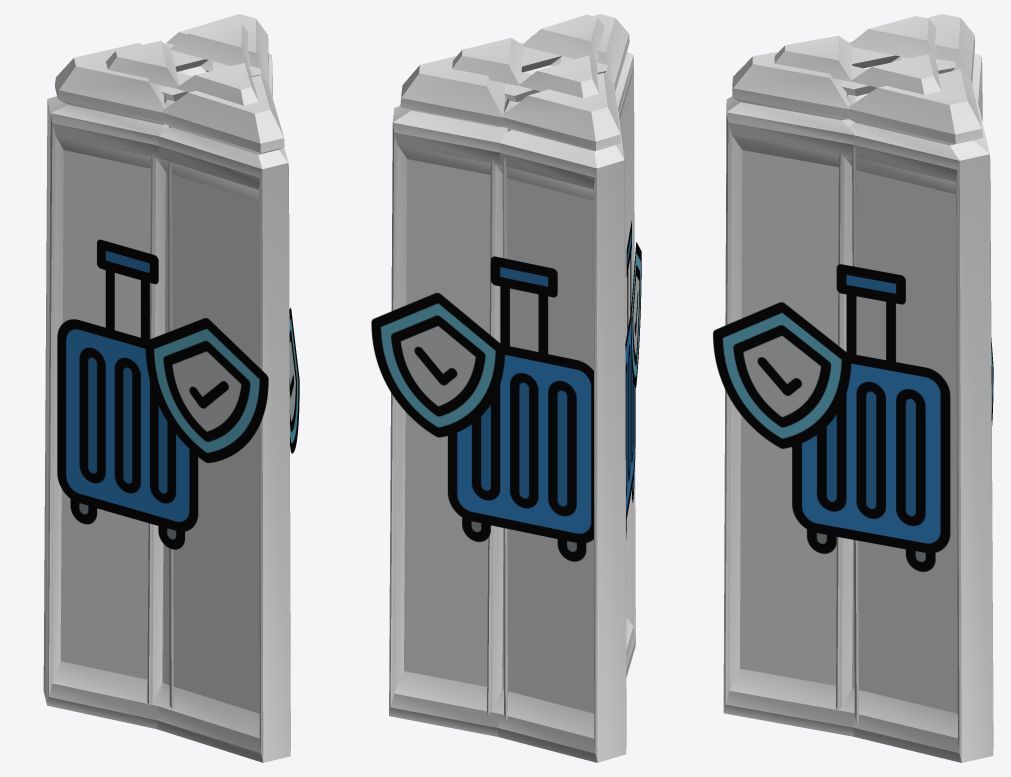
The model's file is sevnth building.glb.
3 views of the same model, side by side, from view 1: azimuth 30°, elevation 25°; view 2: azimuth 150°, elevation 25°; view 3: azimuth 270°, elevation 25° (orthographic).
Parts seen in each view (by area): view 1: city buildings.windows.923, 4599356, 4599356.002; view 2: city buildings.windows.923, 4599356.003, 4599356; view 3: city buildings.windows.923, 4599356.002.
Part boxes in pixels (left/top/right/bottom): city buildings.windows.923: left=43, top=14, right=290, bottom=762; 4599356: left=57, top=239, right=268, bottom=549; 4599356.002: left=289, top=308, right=299, bottom=453; city buildings.windows.923: left=389, top=14, right=635, bottom=762; 4599356.003: left=371, top=256, right=593, bottom=561; 4599356: left=625, top=221, right=641, bottom=538; city buildings.windows.923: left=723, top=14, right=993, bottom=762; 4599356.002: left=713, top=264, right=950, bottom=571.
Bounding box in the file's own units: 4.02 × 8.5 × 3.78.
8 materials, 4 textured.
